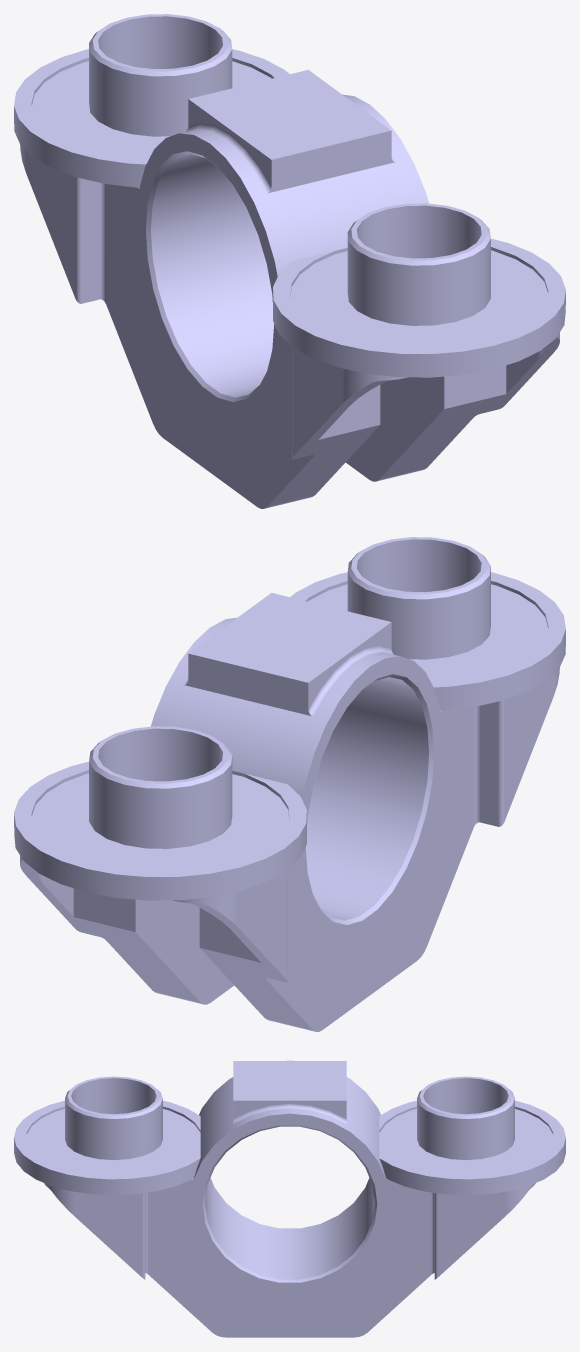
3 views of the same model, one above another, from view 1: azimuth 30°, elevation 25°; view 2: azimuth 150°, elevation 25°; view 3: azimuth 270°, elevation 25° (orthographic). The views are drawn at different scales.
Visible parts, largest first — view 1: PartBody; view 2: PartBody; view 3: PartBody.
Boxes of the visible parts, x1,y1,x2,y2 form: PartBody: (14, 14, 565, 508); PartBody: (14, 537, 565, 1031); PartBody: (14, 1060, 565, 1337).
Bounding box in the file's own units: 12.52 × 15.91 × 34.57.
